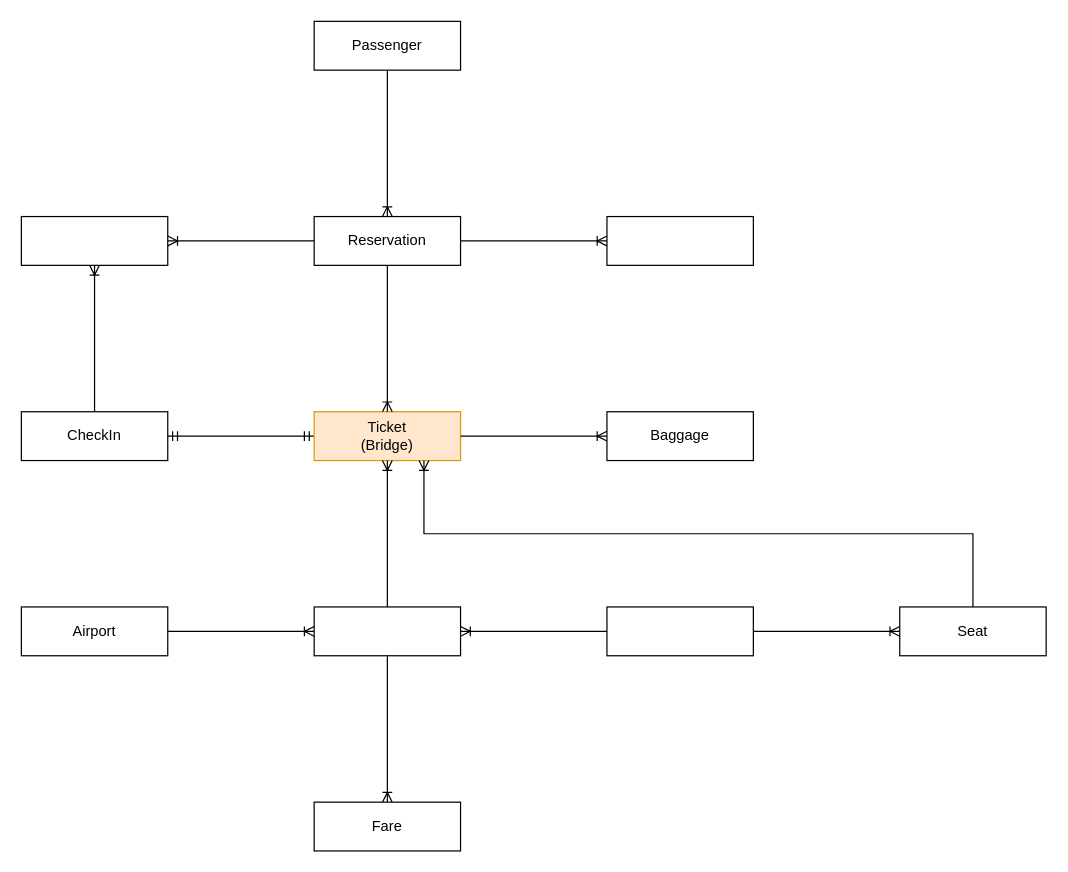
Image size: 1068x872. Some labels were removed from this diagram. The shapes that lost their labels are listed below. From the top down, each one's centre as x and y in pixels, then its label:
(x=94, y=240): Staff
(x=679, y=240): Payment
(x=387, y=631): Flight
(x=679, y=631): Aircraft
